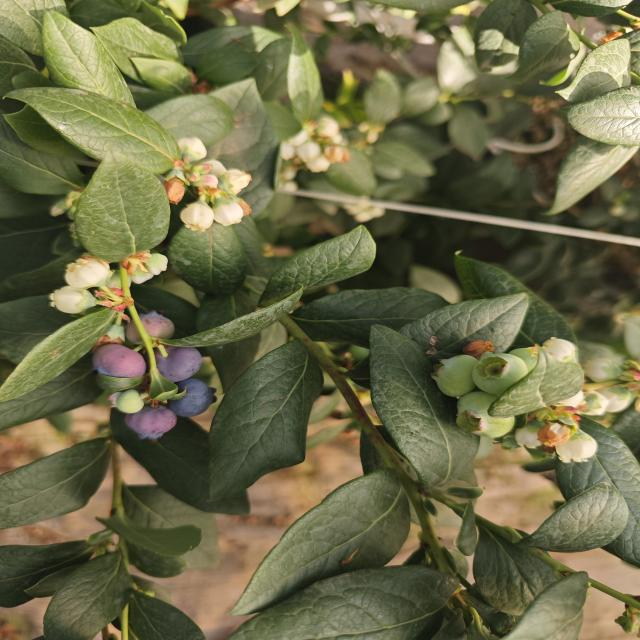ripe: (116, 409, 178, 439), (176, 381, 220, 413), (162, 346, 197, 378)
